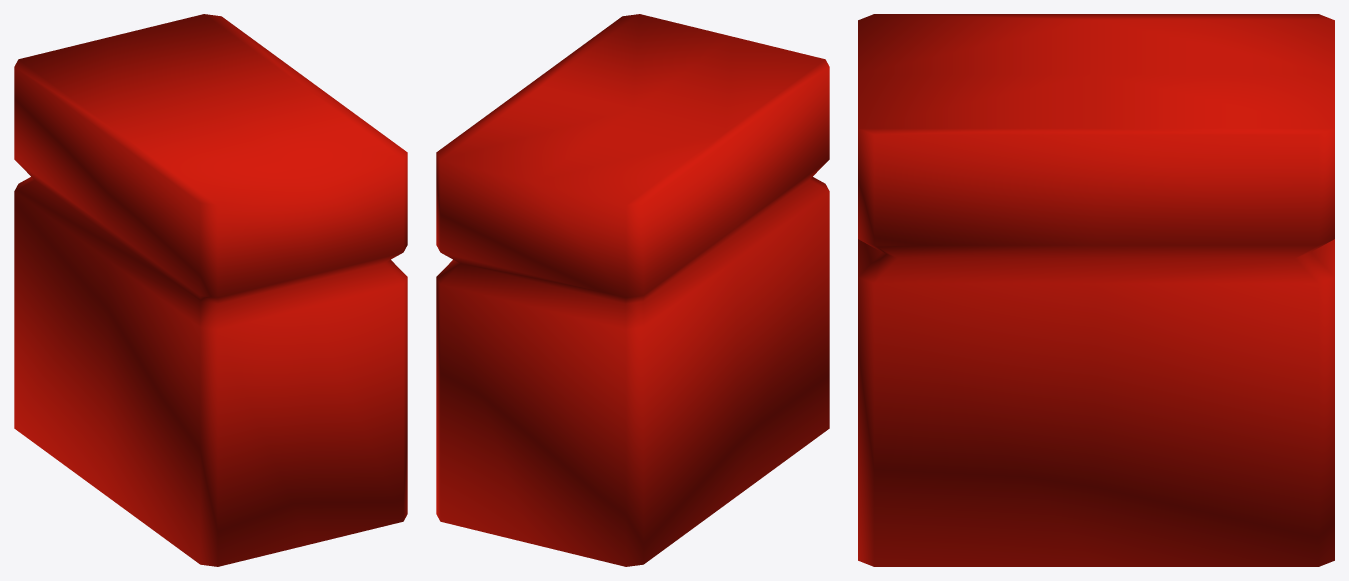
Rendered from IndBuilding1_Deco_Column_Base.fbx.
3 renders of one model, left to right at view 1: azimuth 30°, elevation 25°; view 2: azimuth 150°, elevation 25°; view 3: azimuth 270°, elevation 25°, orthographic. The views are drawn at different scales.
Parts seen in each view (by area): view 1: IndBuilding1_Deco_Column_Base; view 2: IndBuilding1_Deco_Column_Base; view 3: IndBuilding1_Deco_Column_Base.
Part boxes in pixels (x1,y1,x2,y2): IndBuilding1_Deco_Column_Base: [14, 14, 407, 566]; IndBuilding1_Deco_Column_Base: [436, 14, 829, 566]; IndBuilding1_Deco_Column_Base: [858, 14, 1334, 566].
Bounding box in the file's own units: 0.6 × 1 × 1.
